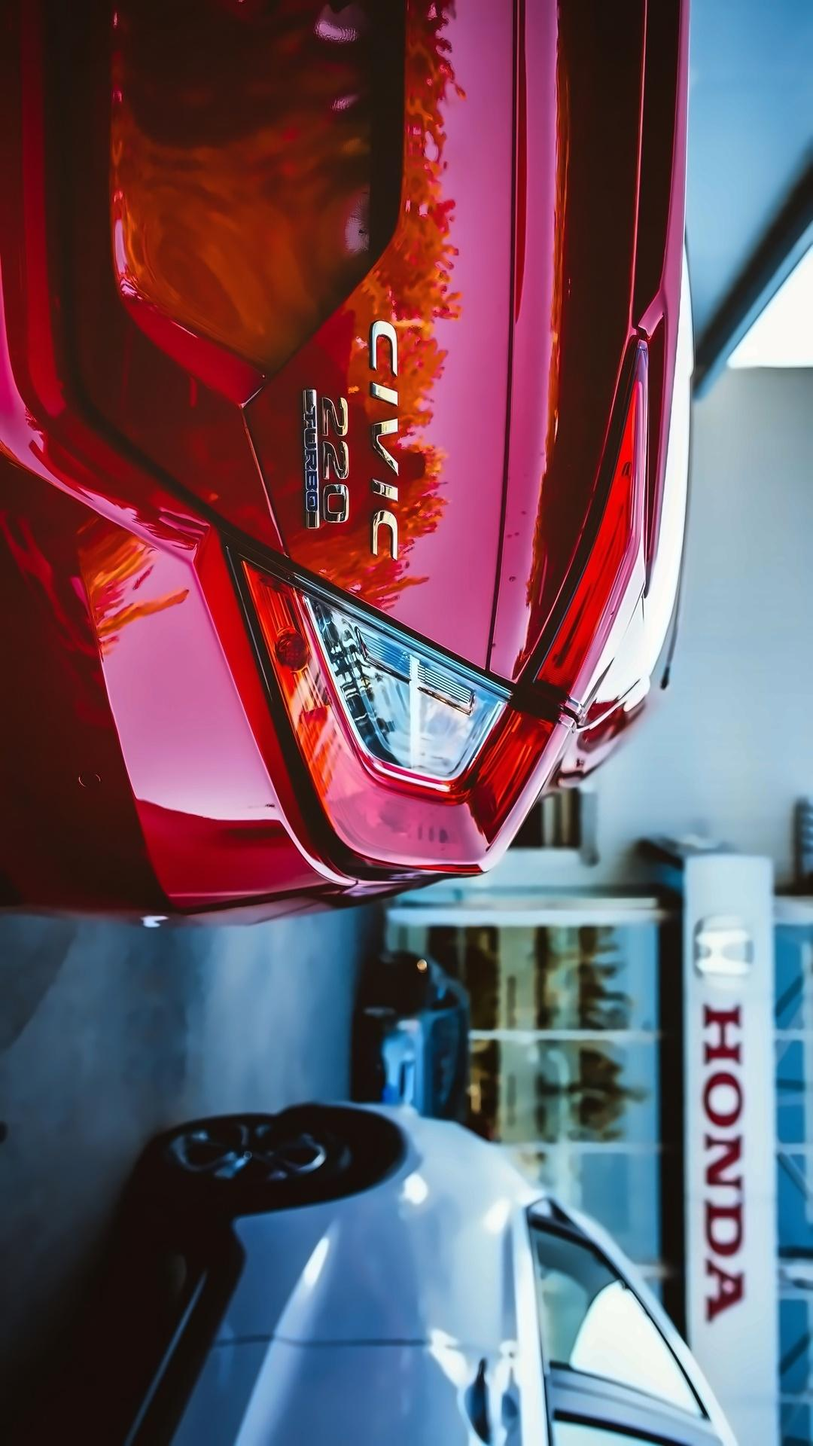Car boot: (40, 0, 670, 728)
Rear bumper: (0, 0, 369, 949)
Rear light - -R-: (198, 324, 647, 897)
